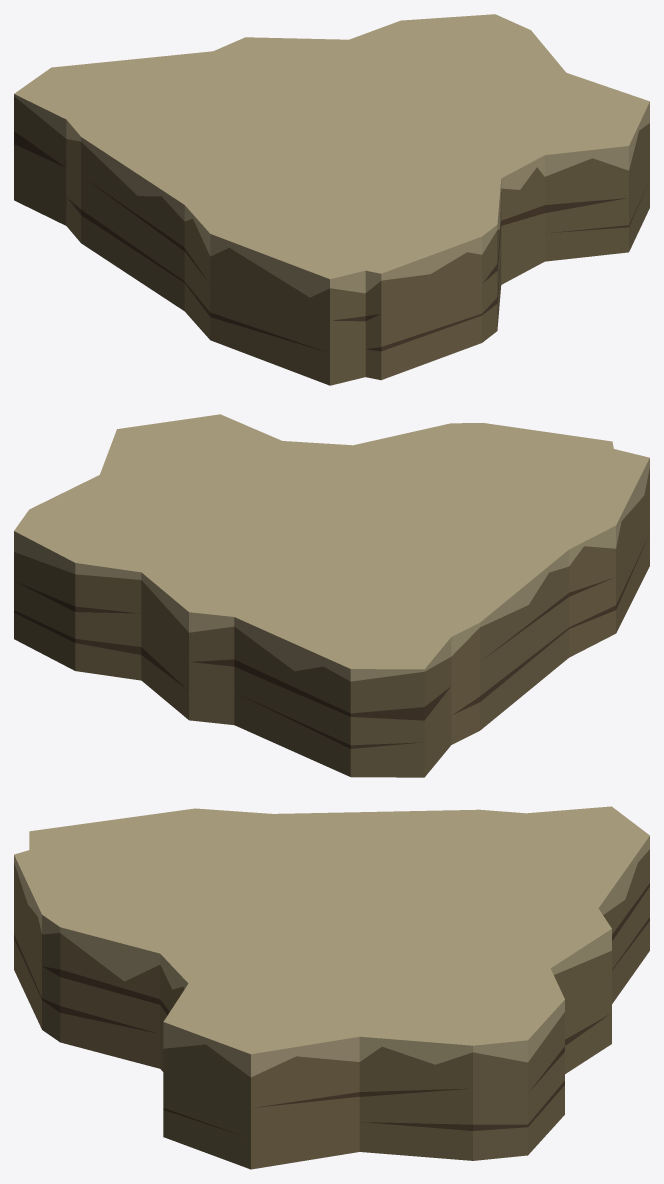
File: Ground_12_B.FBX
3 views of the same model, one above another, from view 1: azimuth 30°, elevation 25°; view 2: azimuth 150°, elevation 25°; view 3: azimuth 270°, elevation 25° (orthographic). The views are drawn at different scales.
Parts seen in each view (by area): view 1: Ground_12_B; view 2: Ground_12_B; view 3: Ground_12_B.
Boxes of the visible parts, x1,y1,x2,y2 form: Ground_12_B: [14, 14, 649, 385]; Ground_12_B: [14, 414, 649, 777]; Ground_12_B: [14, 806, 649, 1169].
Size of the model in its own units: 13.98 by 3.03 by 15.16.
